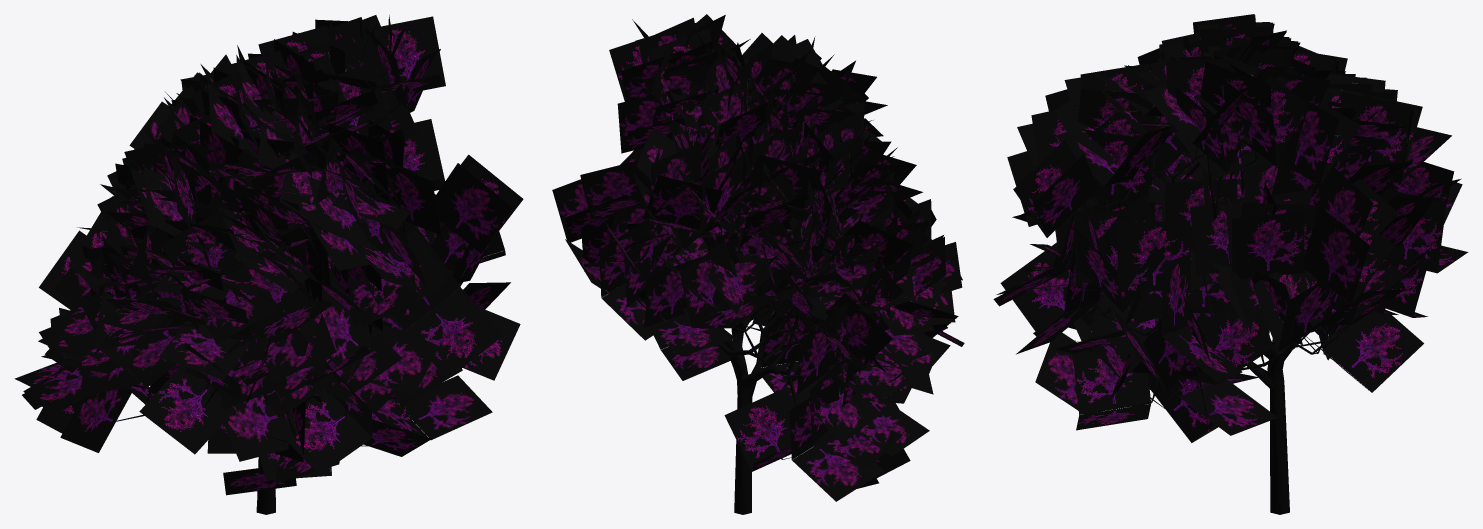
File: tree_2.glb
The picture shows the model from 3 angles, left to right: view 1: azimuth 30°, elevation 25°; view 2: azimuth 150°, elevation 25°; view 3: azimuth 270°, elevation 25°; orthographic projection. The views are drawn at different scales.
Size of the model in its own units: 8.9 by 9.79 by 8.51.
2 materials, 1 textured.
